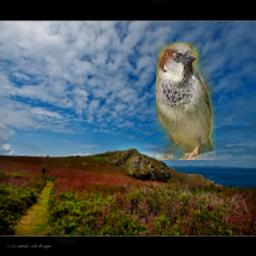Sparrow: (156, 42, 216, 160)
